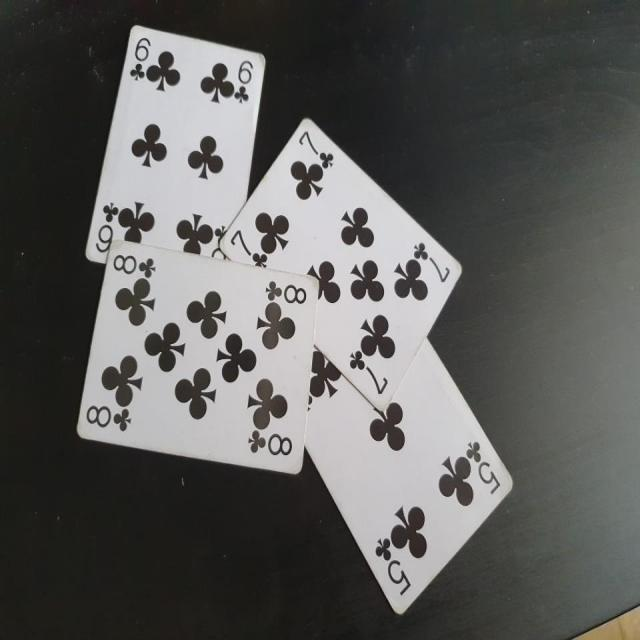5 Trefoils: (303, 337, 518, 614)
6 Trefoils: (83, 22, 267, 265)
7 Trefoils: (218, 116, 462, 412)
8 Trefoils: (76, 239, 321, 474)
